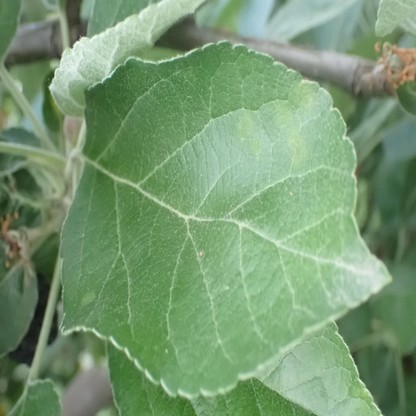scab: (274, 107, 306, 165), (295, 82, 318, 110), (233, 113, 251, 137), (248, 136, 262, 155), (80, 291, 95, 304)
